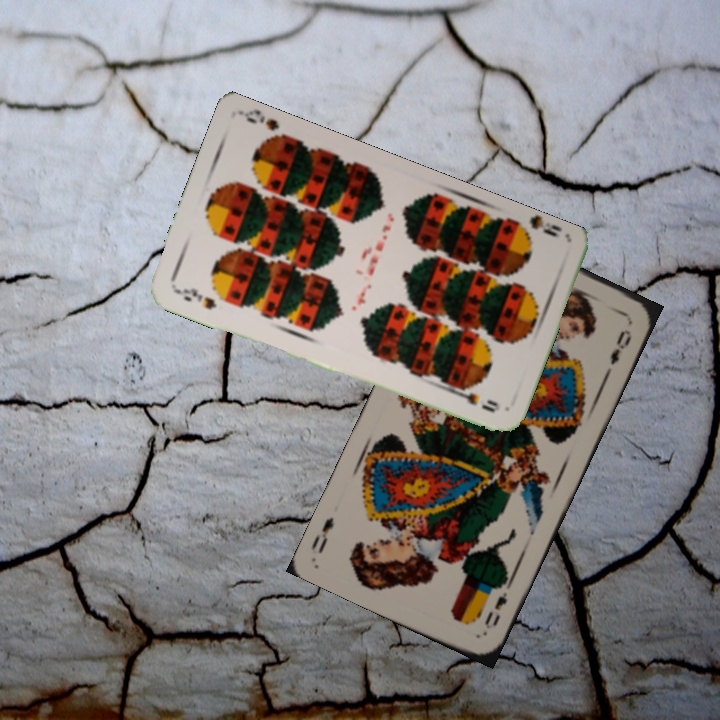EO: (480, 579, 510, 632)
S9: (510, 215, 564, 244), (171, 284, 219, 312)
